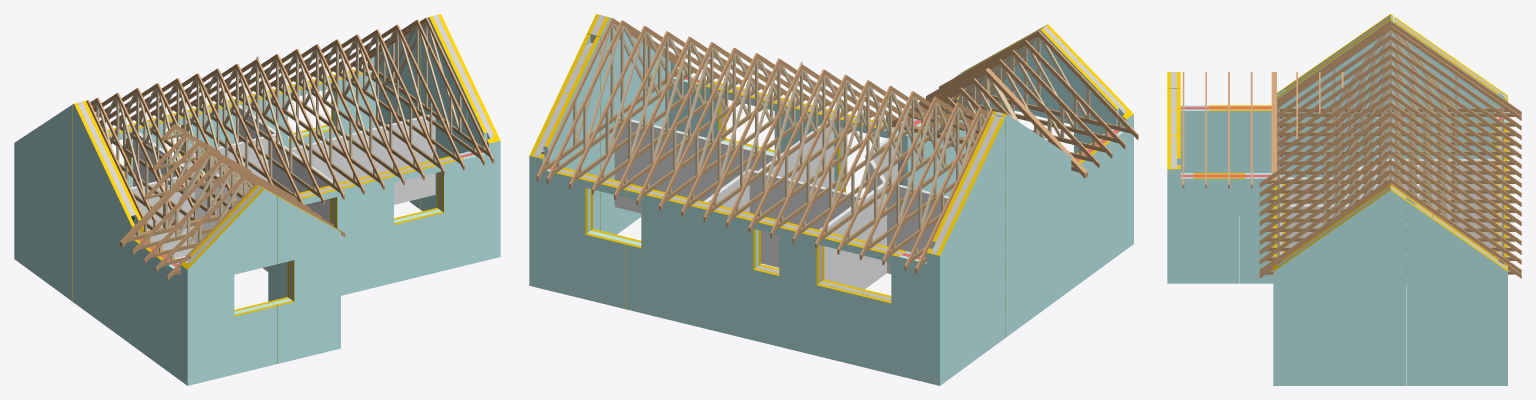
File: ES26-064_Bungalow.glb
3 views of the same model, side by side, from view 1: azimuth 30°, elevation 25°; view 2: azimuth 150°, elevation 25°; view 3: azimuth 270°, elevation 25° (orthographic). The views are drawn at different scales.
Visible parts, largest first — view 1: Geom3D (×81), Geom3D_TLSID46745, Geom3D_TLSID46555, Geom3D_TLSID46683, Geom3D_TLSID46635, Geom3D_TLSID46599, Geom3D_Difference_TLSID486760, Geom3D_Difference_TLSID488595, Geom3D_Difference_TLSID490063, Geom3D_Difference_TLSID487127, Geom3D_Difference_TLSID487494, Geom3D_Difference_TLSID487861 (+14 smaller); view 2: Geom3D (×80), Geom3D_TLSID46745, Geom3D_TLSID46635, Geom3D_TLSID46599, Geom3D_TLSID46555, Geom3D_TLSID46683, Geom3D_Difference_TLSID487860, Geom3D_Difference_TLSID489695, Geom3D_Difference_TLSID491548, Geom3D_Difference_TLSID487126, Geom3D_Difference_TLSID407156, Geom3D_Difference_TLSID492667 (+18 smaller); view 3: Geom3D (×87), Geom3D_TLSID46599, Geom3D_Difference_TLSID487494, Geom3D_Difference_TLSID487860, Geom3D_Difference_TLSID488227, Geom3D_Difference_TLSID488228, Geom3D_Difference_TLSID488594, Geom3D_Difference_TLSID488595, Geom3D_Difference_TLSID489329, Geom3D_Difference_TLSID492294, Geom3D_Difference_TLSID492667, Geom3D_Difference_TLSID486759 (+35 smaller).
Part boxes in pixels (<box>): Geom3D (×81): <box>27,15,500,375</box>; Geom3D_TLSID46745: <box>292,114,435,204</box>; Geom3D_TLSID46555: <box>130,172,268,271</box>; Geom3D_TLSID46683: <box>268,137,332,222</box>; Geom3D_TLSID46635: <box>179,104,279,181</box>; Geom3D_TLSID46599: <box>133,132,188,186</box>; Geom3D_Difference_TLSID486760: <box>256,59,324,204</box>; Geom3D_Difference_TLSID488595: <box>356,34,424,180</box>; Geom3D_Difference_TLSID490063: <box>426,17,494,163</box>; Geom3D_Difference_TLSID487127: <box>276,54,344,199</box>; Geom3D_Difference_TLSID487494: <box>296,49,364,194</box>; Geom3D_Difference_TLSID487861: <box>316,44,384,189</box>; Geom3D (×80): <box>529,15,1125,380</box>; Geom3D_TLSID46745: <box>614,117,777,213</box>; Geom3D_TLSID46635: <box>703,169,861,267</box>; Geom3D_TLSID46599: <box>819,183,886,289</box>; Geom3D_TLSID46555: <box>865,133,948,273</box>; Geom3D_TLSID46683: <box>758,117,834,189</box>; Geom3D_Difference_TLSID487860: <box>658,47,735,210</box>; Geom3D_Difference_TLSID489695: <box>546,20,623,183</box>; Geom3D_Difference_TLSID491548: <box>837,91,913,254</box>; Geom3D_Difference_TLSID487126: <box>703,58,779,221</box>; Geom3D_Difference_TLSID407156: <box>748,69,824,232</box>; Geom3D_Difference_TLSID492667: <box>904,107,980,270</box>; Geom3D (×87): <box>1167,15,1515,385</box>; Geom3D_TLSID46599: <box>1382,159,1494,208</box>; Geom3D_Difference_TLSID487494: <box>1259,121,1390,216</box>; Geom3D_Difference_TLSID487860: <box>1390,131,1521,226</box>; Geom3D_Difference_TLSID488227: <box>1390,140,1521,235</box>; Geom3D_Difference_TLSID488228: <box>1259,140,1390,235</box>; Geom3D_Difference_TLSID488594: <box>1390,150,1521,245</box>; Geom3D_Difference_TLSID488595: <box>1259,150,1390,245</box>; Geom3D_Difference_TLSID489329: <box>1259,169,1390,264</box>; Geom3D_Difference_TLSID492294: <box>1390,35,1521,130</box>; Geom3D_Difference_TLSID492667: <box>1390,25,1521,120</box>; Geom3D_Difference_TLSID486759: <box>1390,102,1521,197</box>.
Bounding box in the file's own units: 11.36 × 5.76 × 9.36.
